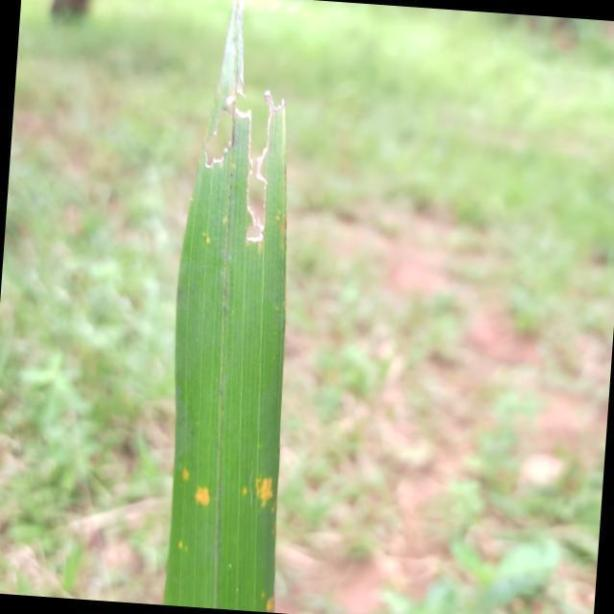Kalium: (168, 0, 289, 614)
